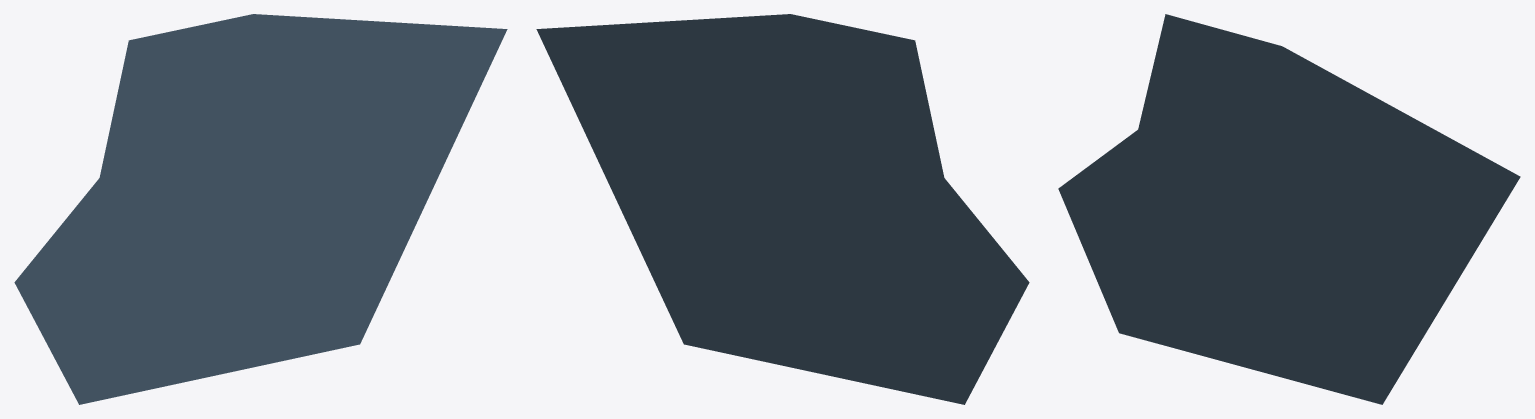
Rendered from DivingWallExteriorJ.glb.
The picture shows the model from 3 angles, left to right: view 1: azimuth 30°, elevation 25°; view 2: azimuth 150°, elevation 25°; view 3: azimuth 330°, elevation 25°; orthographic projection. The views are drawn at different scales.
Parts seen in each view (by area): view 1: DivingWallExteriorJ; view 2: DivingWallExteriorJ; view 3: DivingWallExteriorJ.
Boxes of the visible parts, left/top/right/bottom form: DivingWallExteriorJ: left=14, top=14, right=507, bottom=404; DivingWallExteriorJ: left=536, top=14, right=1029, bottom=404; DivingWallExteriorJ: left=1058, top=14, right=1520, bottom=404.
Bounding box in the file's own units: 15.25 × 10.65 × 0.
